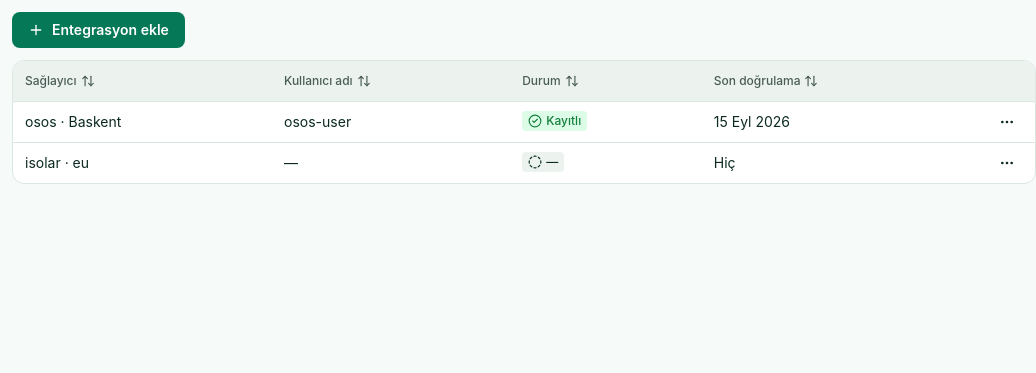
Test case: CredentialsSectionView › offers the iSolar connection only for an iSolar credential
Click the button named "İşlemler" in the row of "osos · Baskent": (1007,122) left=991, top=106, right=1023, bottom=138
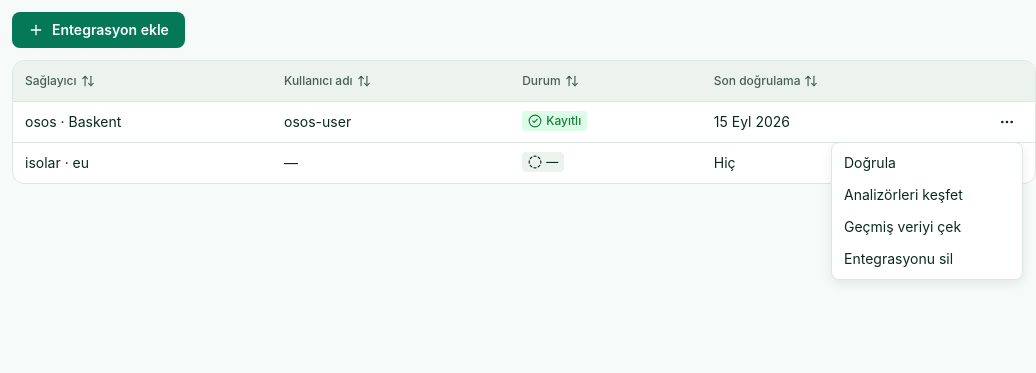
Expected: the menu item "iSolarCloud'a bağlan" is not shown
Press Escape
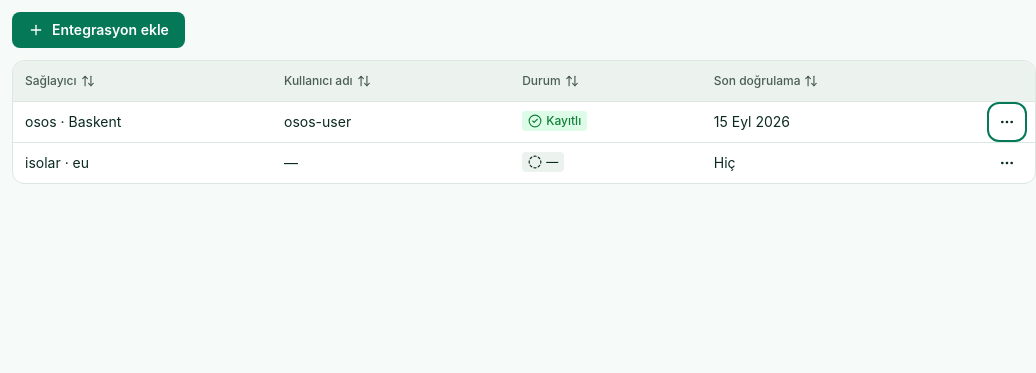
Click the button named "İşlemler" in the row of "isolar · eu": (1007,162) left=991, top=146, right=1023, bottom=178
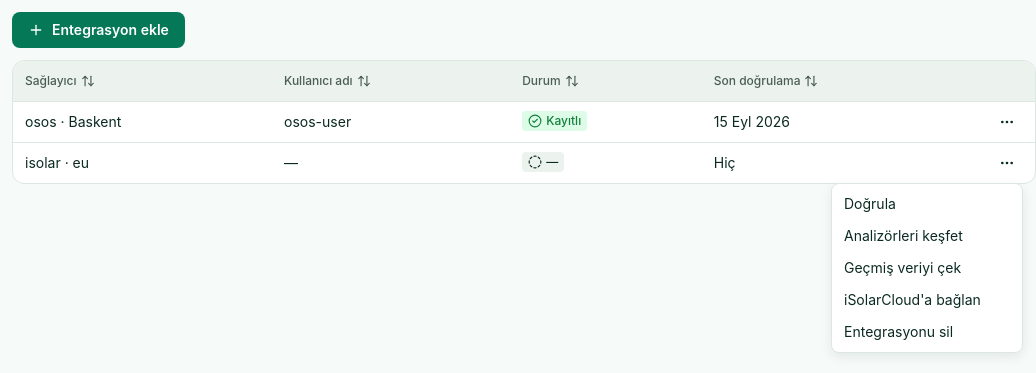
Expected: the menu item "iSolarCloud'a bağlan" is shown, left=844, top=291, right=981, bottom=308
